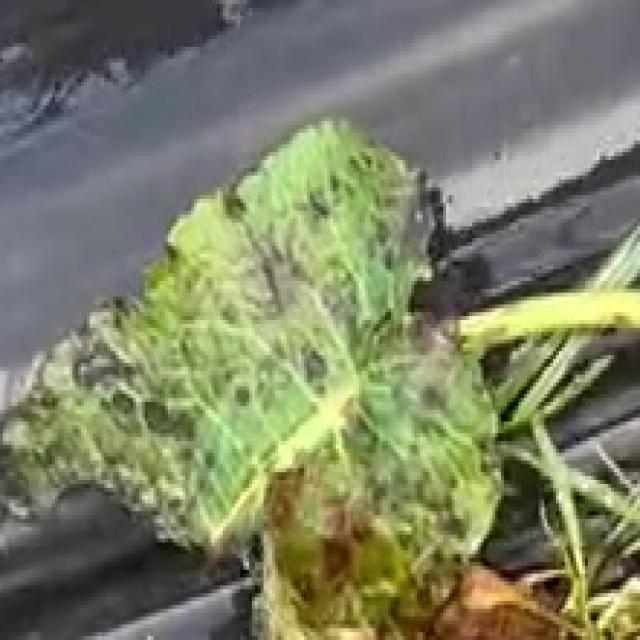organic waste: (13, 99, 613, 640)
